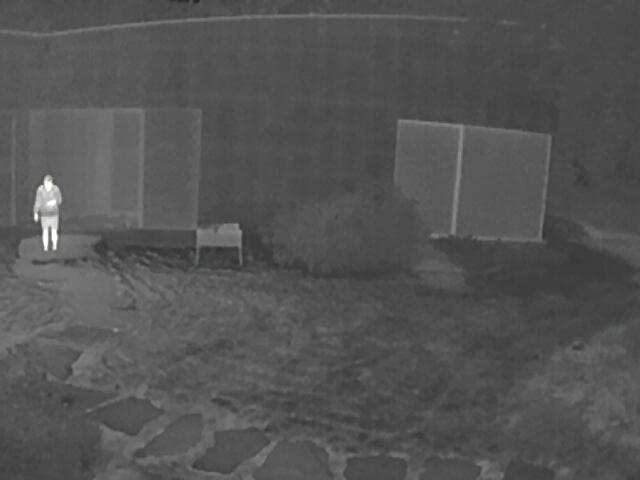person: (35, 174, 61, 253)
